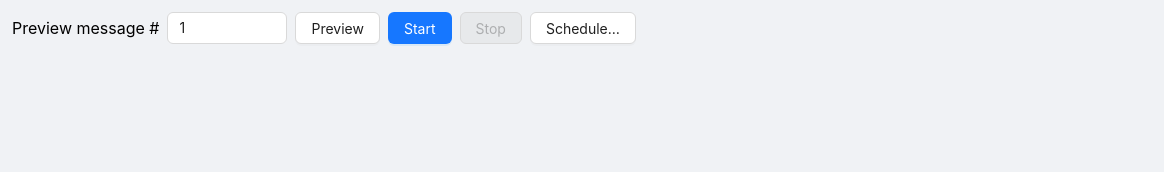
GeneratorActions › shows an inline error and no modal when the template does not resolve to JSON
Click the button "Preview".
click(338, 28)  # box [296,12,380,44]
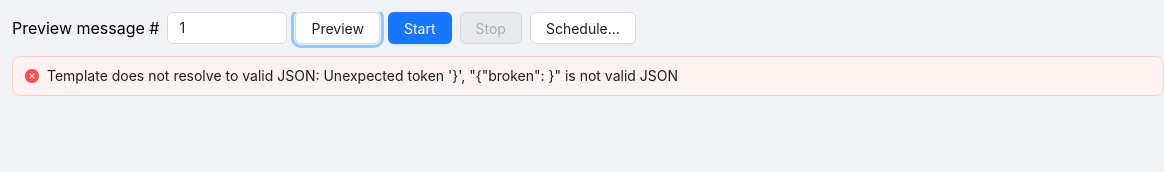
Expected: the element with test id "preview-error" is shown, [12,56,1163,96]
